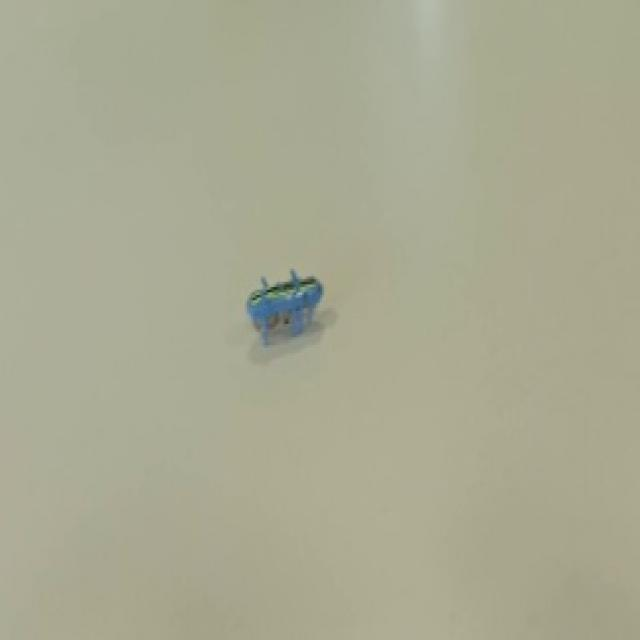3_NanoBug_Celeste: (227, 239, 371, 378)
